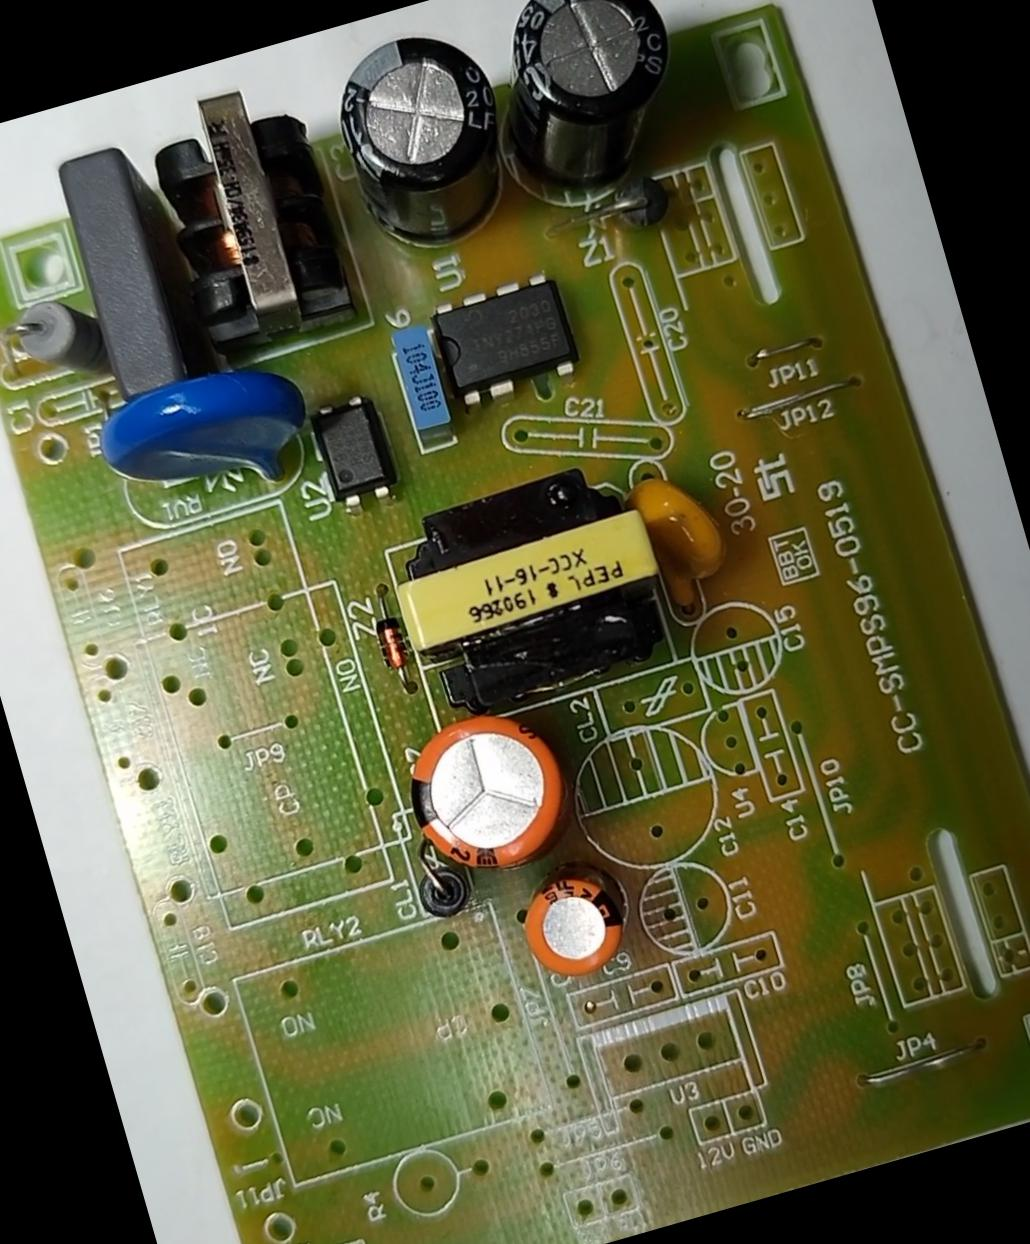Cap1: (394, 697, 579, 887)
Cap2: (512, 864, 634, 985)
Cap3: (315, 15, 531, 265)
Cap4: (468, 0, 704, 210)
MOSFET: (425, 266, 586, 414)
Mov: (85, 344, 327, 530)
Resistor: (5, 288, 116, 397)
Transformer: (371, 448, 686, 728), (135, 62, 374, 367)
